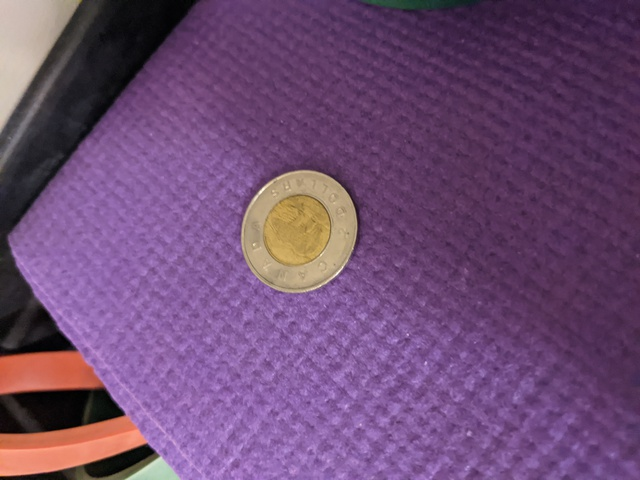twonie: (236, 167, 376, 298)
